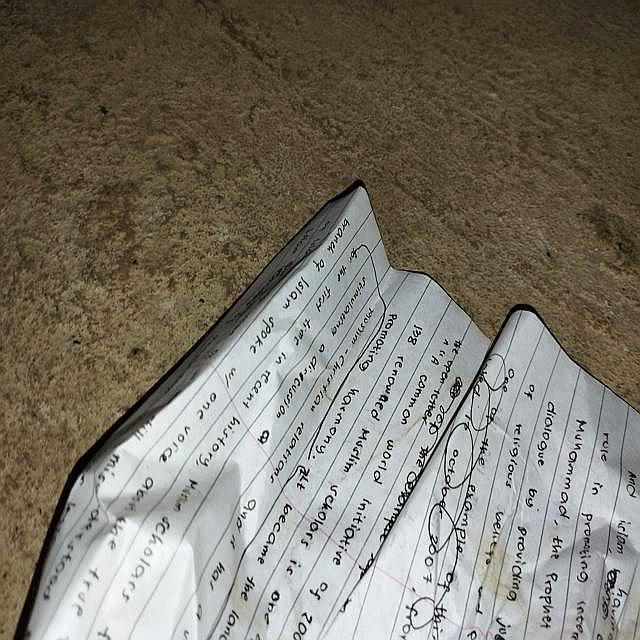Biodegradable: (1, 130, 640, 640)
